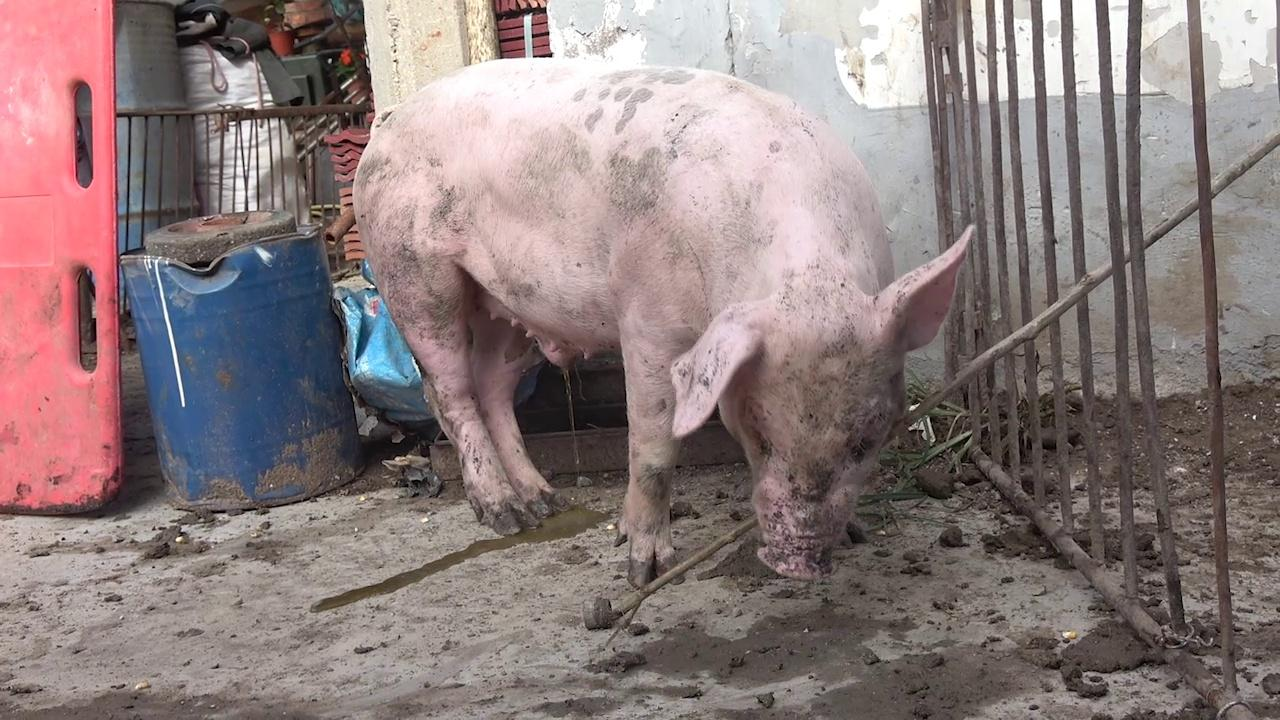Face: (665, 222, 985, 593)
